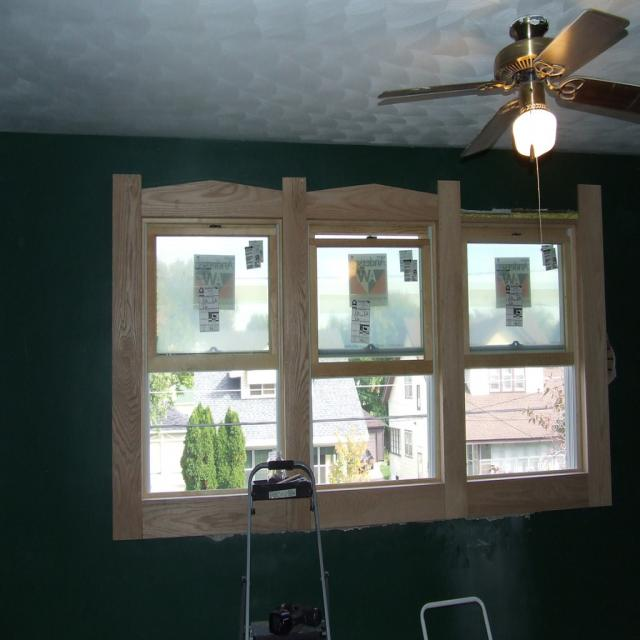Bulb: (378, 12, 640, 166)
